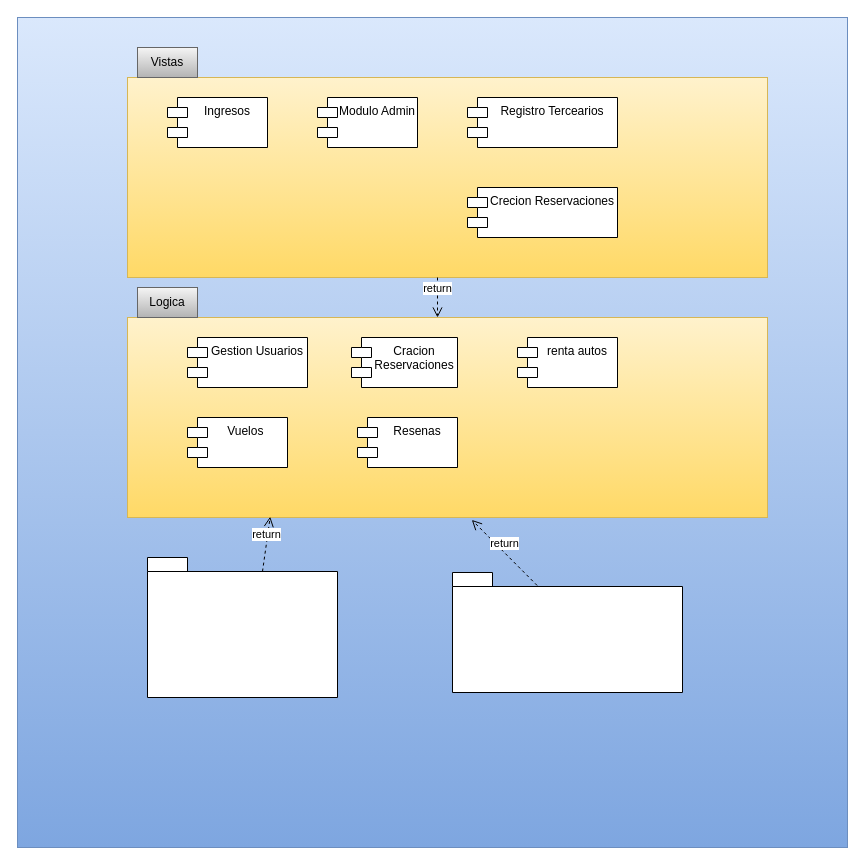
The diagram is 865 pixels wide and 865 high, and some of its shapes have lost their labels. The centre of each missing label's shape, as x and y in pixels:
Mongo DB: point 242,627
Servicios: point 567,632
